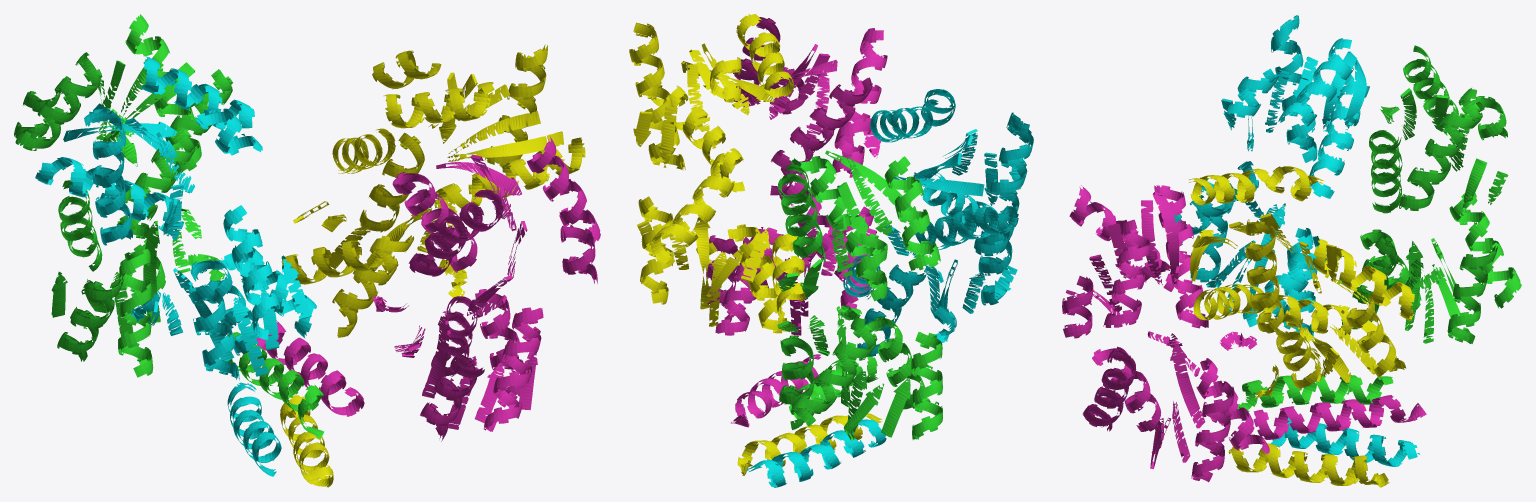
Rendered from Protien.fbx.
3 views of the same model, side by side, from view 1: azimuth 30°, elevation 25°; view 2: azimuth 150°, elevation 25°; view 3: azimuth 270°, elevation 25° (orthographic). The views are drawn at different scales.
Visible parts, largest first — view 1: Shape_IndexedFaceSet; view 2: Shape_IndexedFaceSet; view 3: Shape_IndexedFaceSet.
Boxes of the visible parts, box(x1,y1,x2,y2) form: Shape_IndexedFaceSet: box(14, 14, 600, 487); Shape_IndexedFaceSet: box(629, 14, 1033, 487); Shape_IndexedFaceSet: box(1062, 15, 1521, 487).
Size of the model in its own units: 8398 by 7145 by 7837.
